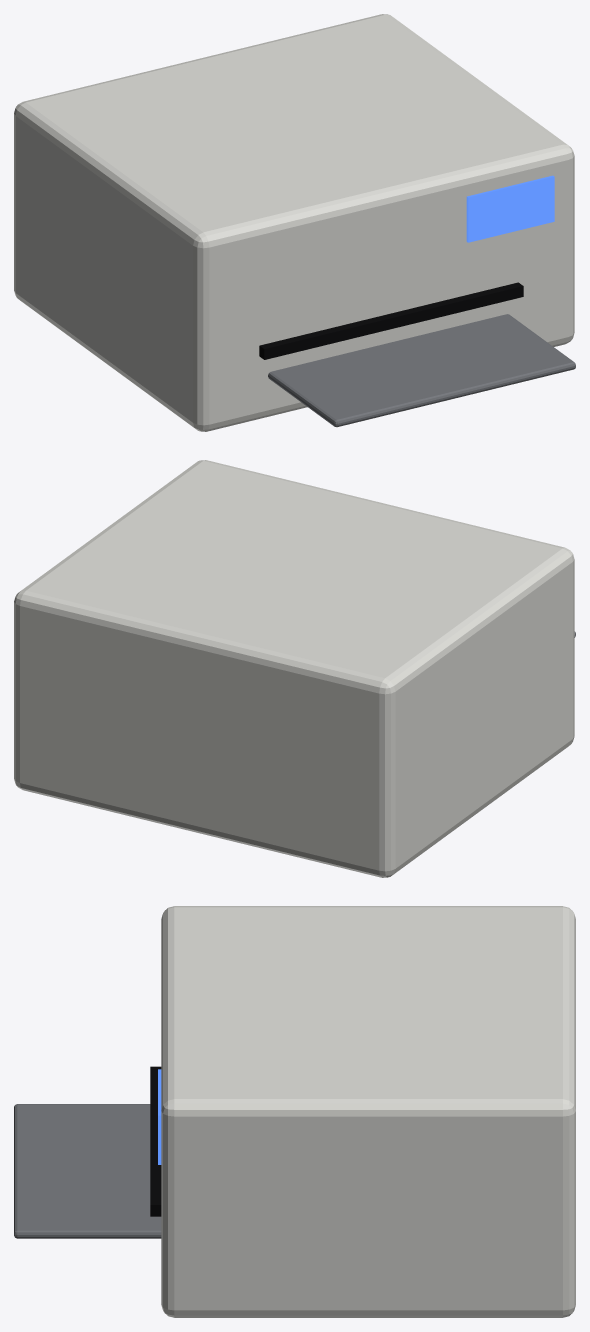
File: tech_printer.glb
The picture shows the model from 3 angles, top to bottom: view 1: azimuth 30°, elevation 25°; view 2: azimuth 150°, elevation 25°; view 3: azimuth 270°, elevation 25°; orthographic projection. The views are drawn at different scales.
Visible parts, largest first — view 1: Printer; view 2: Printer; view 3: Printer.
Part boxes in pixels (bbox=[...]): Printer: bbox=[14, 14, 575, 431]; Printer: bbox=[14, 460, 575, 877]; Printer: bbox=[14, 906, 575, 1317].
Size of the model in its own units: 0.44 by 0.22 by 0.515.
